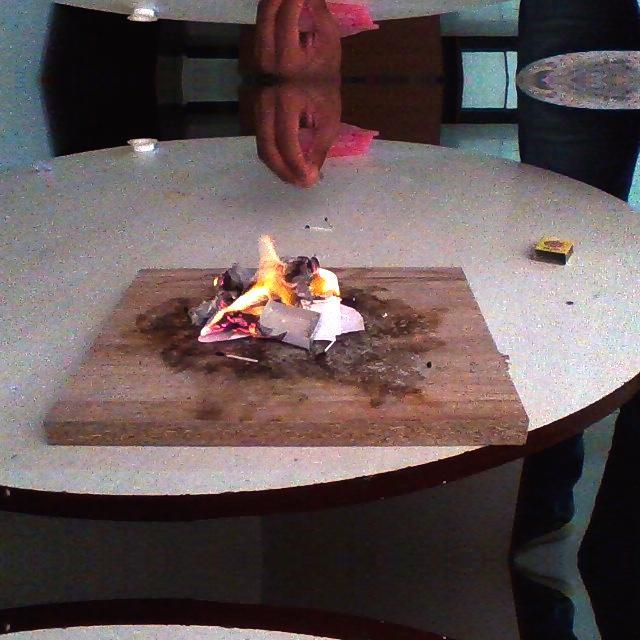fire: (196, 238, 290, 336), (308, 268, 346, 300)
